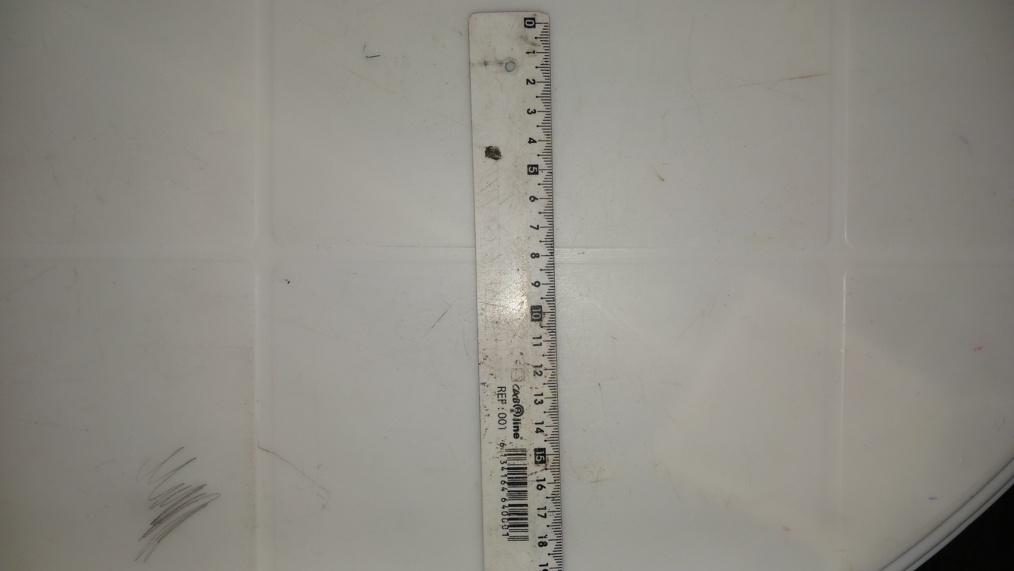Ruler: (474, 13, 560, 571)
